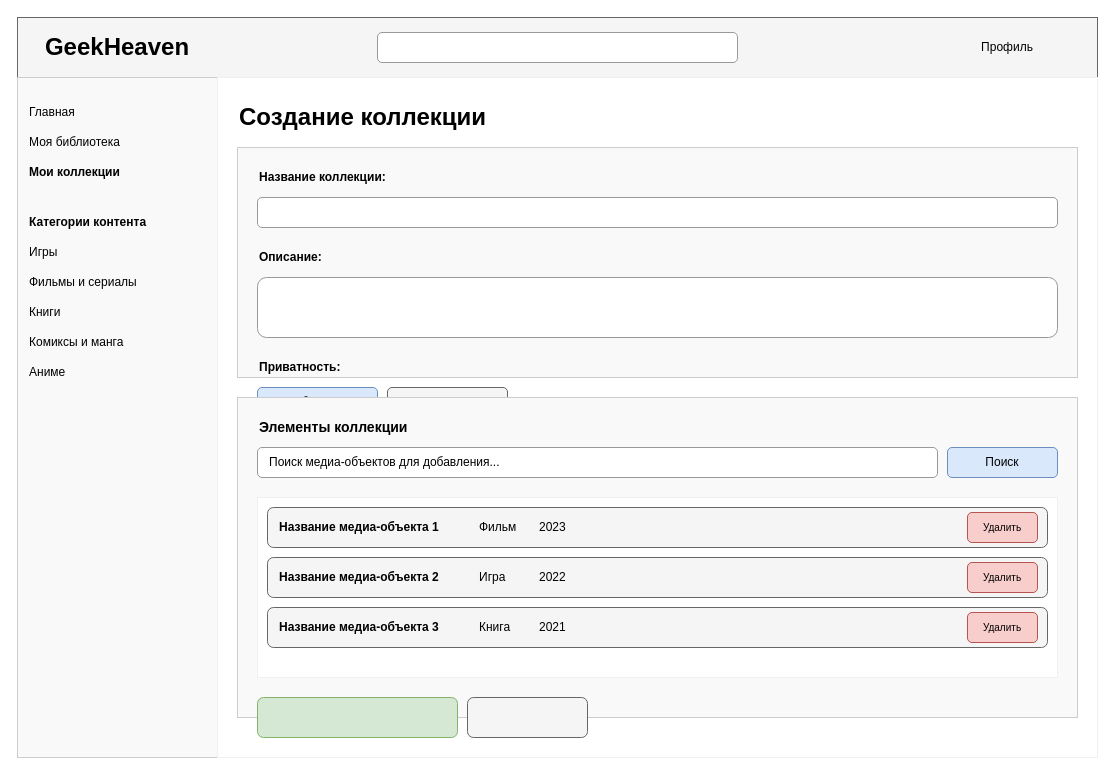
Image size: 1115x775. Some labels were removed from this diagram. Each missing label, with the centre of its shape:
Отмена: pixel 527 717
Поиск...: pixel 557 47
Сохранить коллекцию: pixel 357 717
